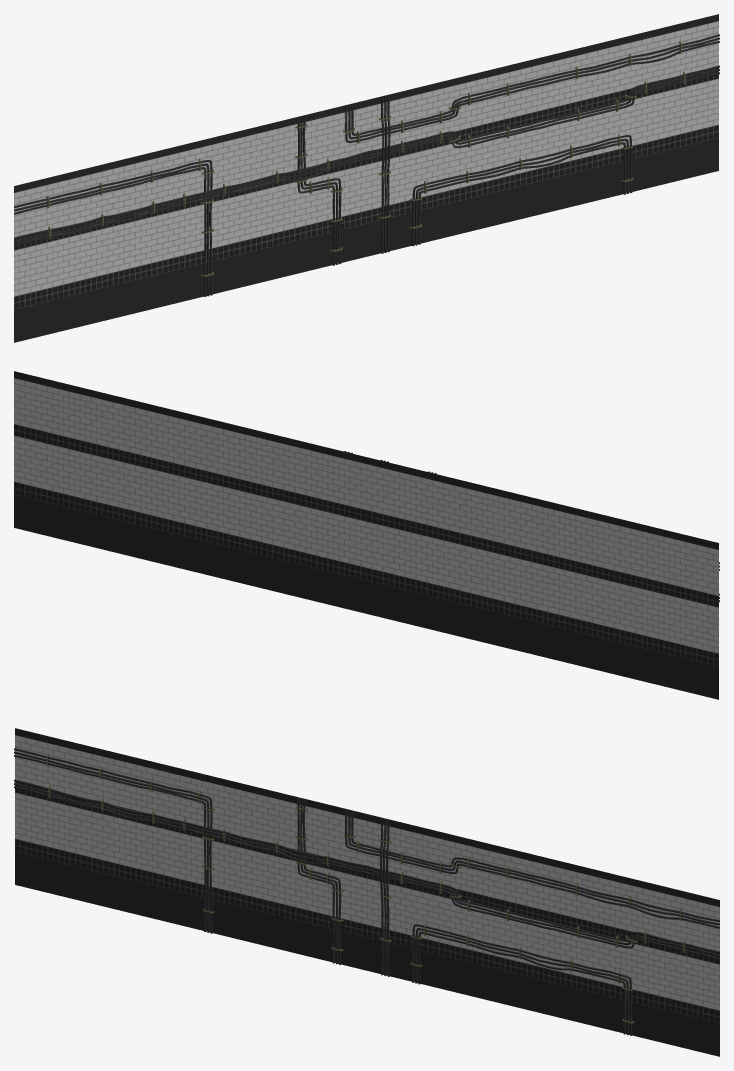
File: SW_ENV_StationTunnel_Wall_A_01a_20m_FF.fbx
The picture shows the model from 3 angles, top to bottom: view 1: azimuth 30°, elevation 25°; view 2: azimuth 150°, elevation 25°; view 3: azimuth 330°, elevation 25°; orthographic projection.
Parts seen in each view (by area): view 1: SW_ENV_StationTunnel_Wall_A_01a_20m_FF; view 2: SW_ENV_StationTunnel_Wall_A_01a_20m_FF; view 3: SW_ENV_StationTunnel_Wall_A_01a_20m_FF.
Boxes of the visible parts, x1,y1,x2,y2 form: SW_ENV_StationTunnel_Wall_A_01a_20m_FF: [14, 14, 719, 342]; SW_ENV_StationTunnel_Wall_A_01a_20m_FF: [14, 371, 719, 699]; SW_ENV_StationTunnel_Wall_A_01a_20m_FF: [14, 728, 719, 1056].
Size of the model in its own units: 2000 by 425 by 10.87.
